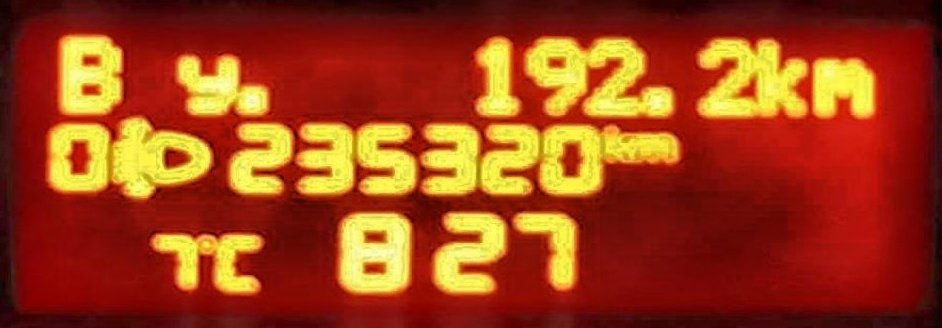-: (640, 83, 681, 117), (234, 82, 273, 117)
0: (537, 122, 607, 199), (40, 119, 110, 196)
1: (466, 32, 526, 119)
2: (425, 207, 511, 296), (692, 33, 759, 119), (579, 34, 646, 117), (225, 120, 294, 199), (479, 120, 541, 197)
3: (418, 119, 480, 199), (293, 118, 354, 197)
5: (352, 119, 418, 197)
7: (508, 207, 581, 293), (146, 228, 201, 295)
8: (330, 208, 415, 295)
9: (524, 32, 590, 120)
X: (53, 31, 125, 116), (811, 51, 878, 120), (172, 50, 239, 117), (755, 36, 809, 119), (209, 230, 270, 296), (637, 123, 680, 165), (599, 122, 637, 165)
